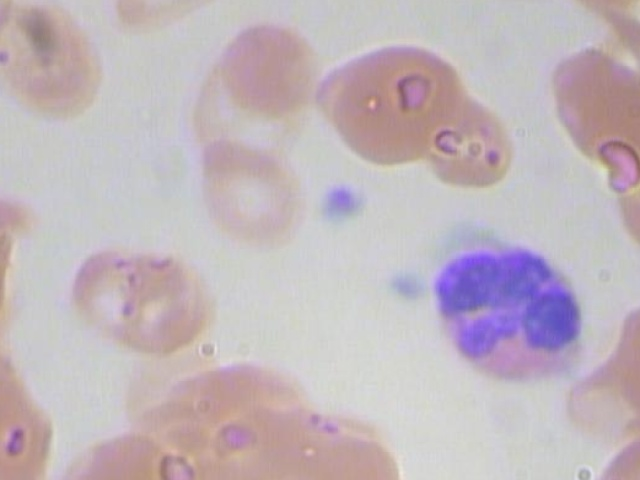Platelets: (314, 179, 370, 232), (379, 260, 435, 313)
RBC: (320, 35, 469, 167), (541, 39, 640, 197), (0, 0, 125, 125), (210, 4, 324, 126), (108, 239, 222, 361), (193, 132, 306, 254), (562, 285, 640, 444), (416, 86, 516, 190), (59, 232, 141, 342), (272, 425, 416, 480), (0, 364, 57, 480), (57, 430, 181, 480), (105, 0, 271, 36), (0, 188, 30, 357), (581, 425, 640, 480)
WBC: (433, 227, 593, 399)
